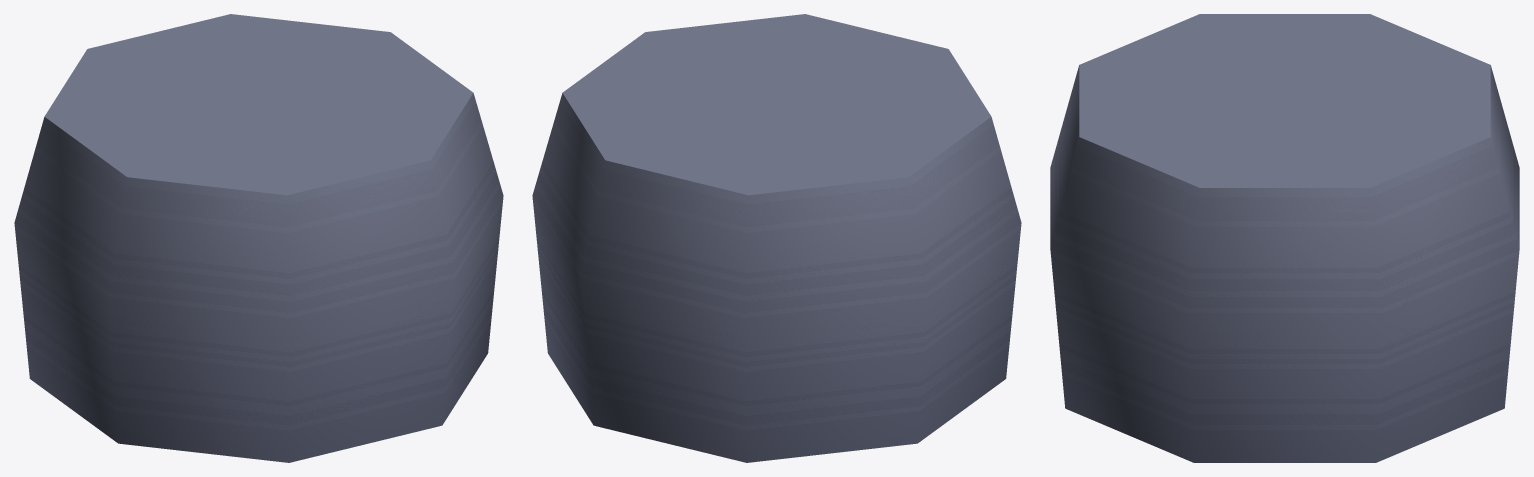
File: tower-base.glb
3 renders of one model, left to right at view 1: azimuth 30°, elevation 25°; view 2: azimuth 150°, elevation 25°; view 3: azimuth 270°, elevation 25°, orthographic. The views are drawn at different scales.
Visible parts, largest first — view 1: tower-base; view 2: tower-base; view 3: tower-base.
Part boxes in pixels (x1,y1,x2,y2): tower-base: [14, 14, 503, 462]; tower-base: [532, 14, 1021, 462]; tower-base: [1050, 14, 1519, 462].
Bounding box in the file's own units: 3.16 × 2 × 3.16.
1 material, 1 textured.
